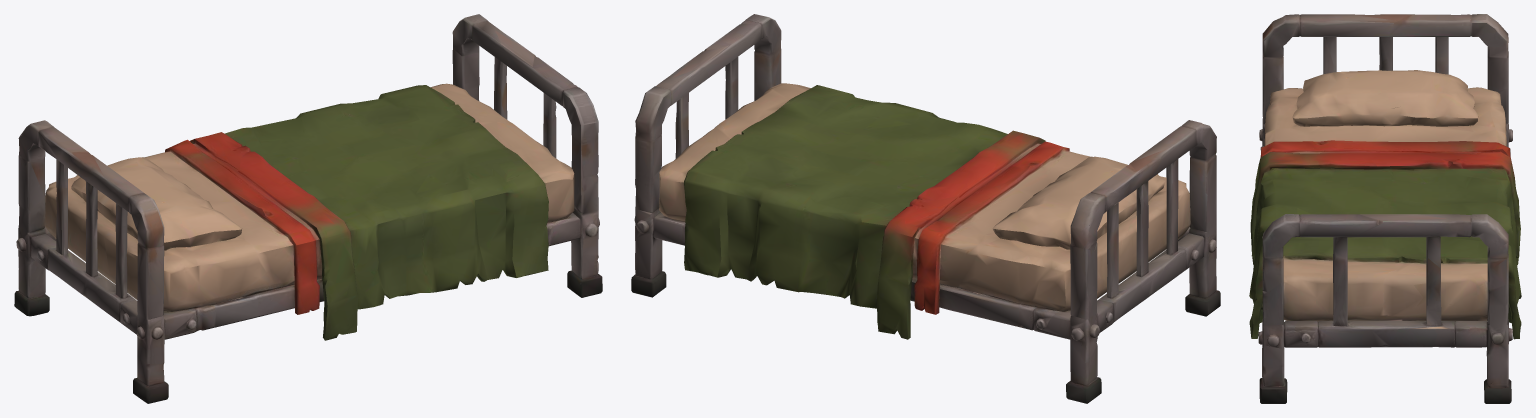
The model's file is bed_single_zheleznaya_koyka_idle.glb.
The picture shows the model from 3 angles, left to right: view 1: azimuth 30°, elevation 25°; view 2: azimuth 150°, elevation 25°; view 3: azimuth 270°, elevation 25°; orthographic projection. The views are drawn at different scales.
Visible parts, largest first — view 1: tripo_node_a2b7d888-a37c-4947-b799-182b46b91505; view 2: tripo_node_a2b7d888-a37c-4947-b799-182b46b91505; view 3: tripo_node_a2b7d888-a37c-4947-b799-182b46b91505.
Part boxes in pixels (x1,y1,x2,y2): tripo_node_a2b7d888-a37c-4947-b799-182b46b91505: [14, 14, 602, 403]; tripo_node_a2b7d888-a37c-4947-b799-182b46b91505: [631, 14, 1220, 403]; tripo_node_a2b7d888-a37c-4947-b799-182b46b91505: [1249, 14, 1521, 403].
Bounding box in the file's own units: 2 × 0.7993 × 1.08.
Materials: 1 (1 with a texture image).
